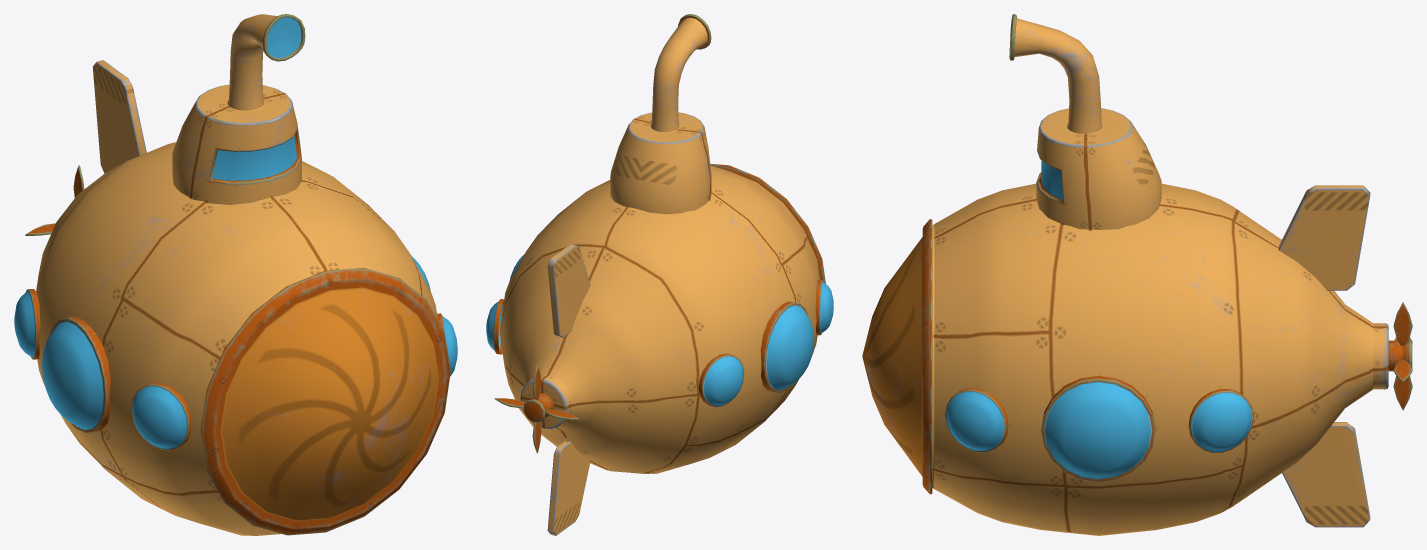
The model's file is submarine.glb.
The picture shows the model from 3 angles, left to right: view 1: azimuth 30°, elevation 25°; view 2: azimuth 150°, elevation 25°; view 3: azimuth 270°, elevation 25°; orthographic projection. The views are drawn at different scales.
Visible parts, largest first — view 1: Iron_case, Spyglass, Windows, Wings; view 2: Iron_case, Spyglass, Windows, Wings, Motor; view 3: Iron_case, Spyglass, Windows, Wings, Motor.
Boxes of the visible parts, left/top/right/bottom form: Iron_case: left=36, top=142, right=450, bottom=535; Spyglass: left=172, top=14, right=305, bottom=204; Windows: left=14, top=255, right=457, bottom=450; Wings: left=92, top=60, right=146, bottom=173; Iron_case: left=499, top=164, right=825, bottom=473; Spyglass: left=610, top=14, right=711, bottom=214; Windows: left=486, top=254, right=833, bottom=407; Wings: left=547, top=244, right=590, bottom=535; Motor: left=494, top=364, right=579, bottom=453; Iron_case: left=862, top=183, right=1388, bottom=535; Spyglass: left=1009, top=14, right=1161, bottom=229; Windows: left=945, top=376, right=1253, bottom=481; Wings: left=1278, top=185, right=1370, bottom=527; Motor: left=1388, top=302, right=1412, bottom=410.
Bounding box in the file's own units: 2.59 × 3.6 × 3.51.
Materials: 1 (1 with a texture image).
